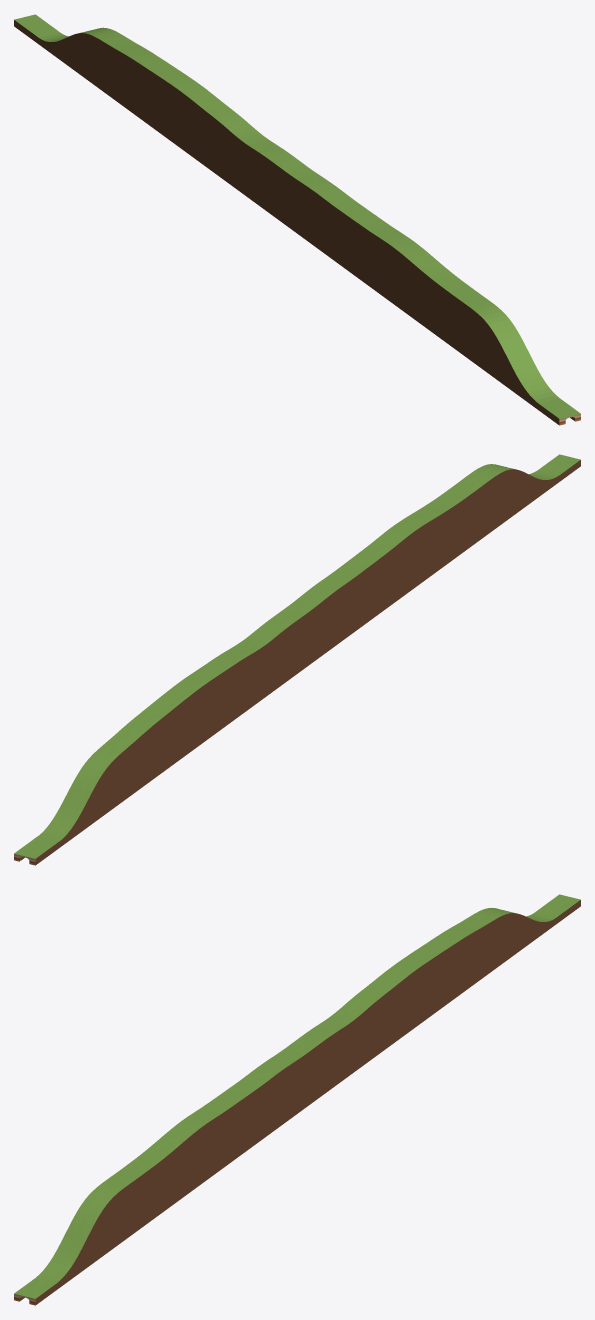
The model's file is tunel_10m.glb.
3 renders of one model, top to bottom at view 1: azimuth 30°, elevation 25°; view 2: azimuth 150°, elevation 25°; view 3: azimuth 330°, elevation 25°, orthographic.
Visible parts, largest first — view 1: tunel_10m; view 2: tunel_10m; view 3: tunel_10m.
Part boxes in pixels (box(x1,y1,x2,y2)): tunel_10m: box(14, 14, 580, 425); tunel_10m: box(14, 454, 580, 865); tunel_10m: box(14, 894, 580, 1305).
Bounding box in the file's own units: 84 × 213 × 3688.
